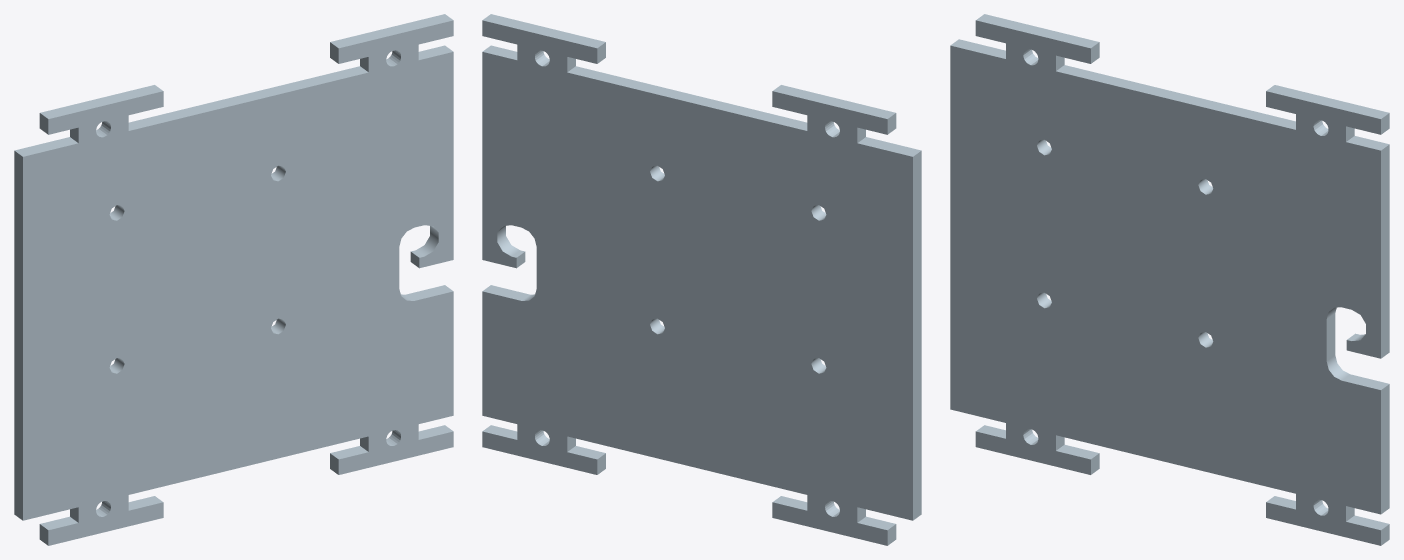
Rendered from prt0001.obj.
3 renders of one model, left to right at view 1: azimuth 30°, elevation 25°; view 2: azimuth 150°, elevation 25°; view 3: azimuth 330°, elevation 25°, orthographic.
Visible parts, largest first — view 1: 1; view 2: 1; view 3: 1.
Boxes of the visible parts, bbox=[...] form: 1: bbox=[14, 14, 453, 545]; 1: bbox=[482, 14, 921, 545]; 1: bbox=[950, 14, 1389, 545].
Bounding box in the file's own units: 86.09 × 81.51 × 3.
